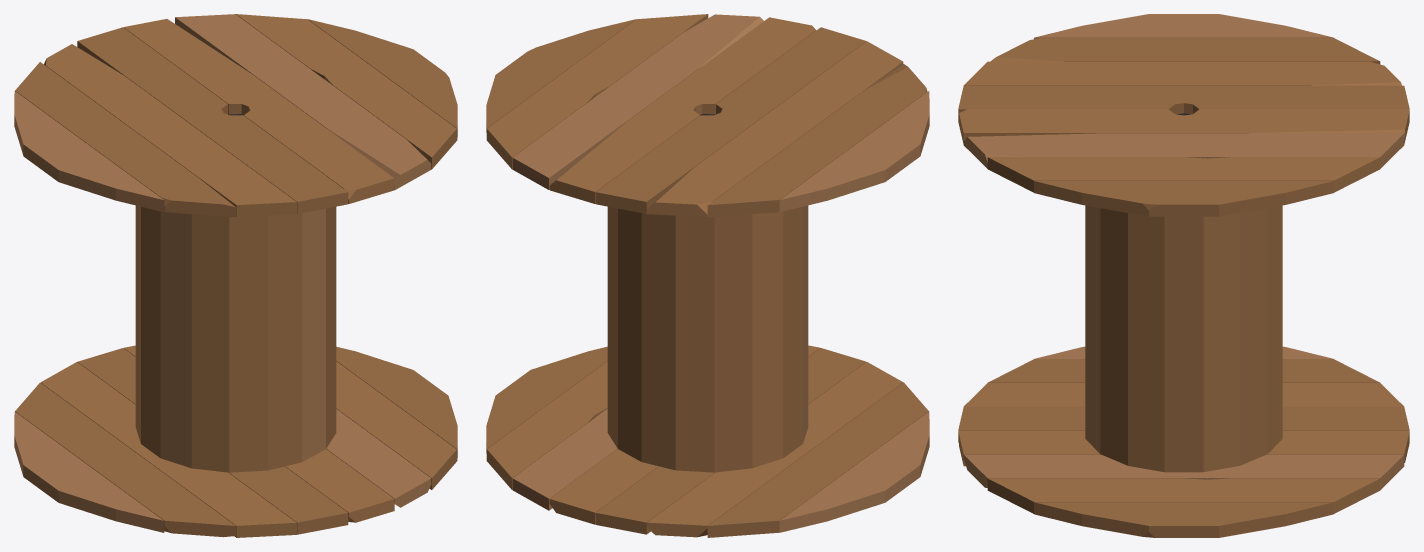
File: SM_Props_CableReel_01.glb
3 renders of one model, left to right at view 1: azimuth 30°, elevation 25°; view 2: azimuth 150°, elevation 25°; view 3: azimuth 270°, elevation 25°, orthographic.
Parts seen in each view (by area): view 1: SM_Props_CableReel_01; view 2: SM_Props_CableReel_01; view 3: SM_Props_CableReel_01.
Boxes of the visible parts, x1,y1,x2,y2 form: SM_Props_CableReel_01: (14, 14, 457, 537); SM_Props_CableReel_01: (486, 14, 929, 537); SM_Props_CableReel_01: (958, 14, 1409, 537).
Bounding box in the file's own units: 1.57 × 1.28 × 1.58.
Materials: 1 (1 with a texture image).
